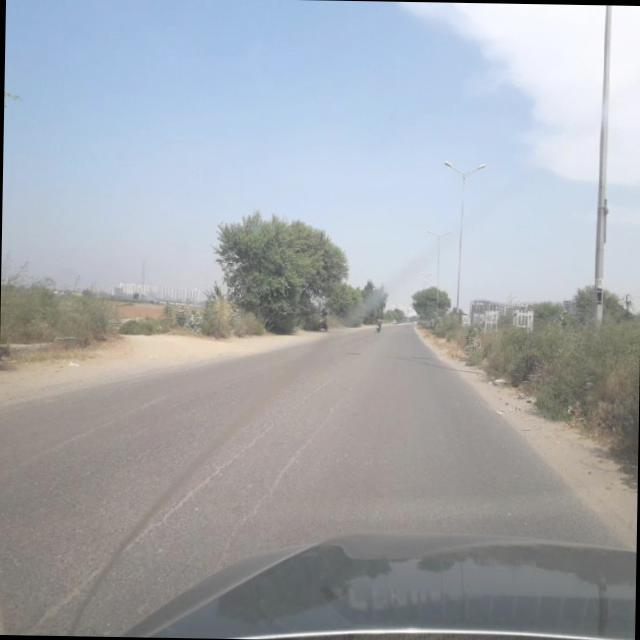pothole: (36, 362, 331, 630), (226, 408, 338, 556), (10, 386, 174, 474)
